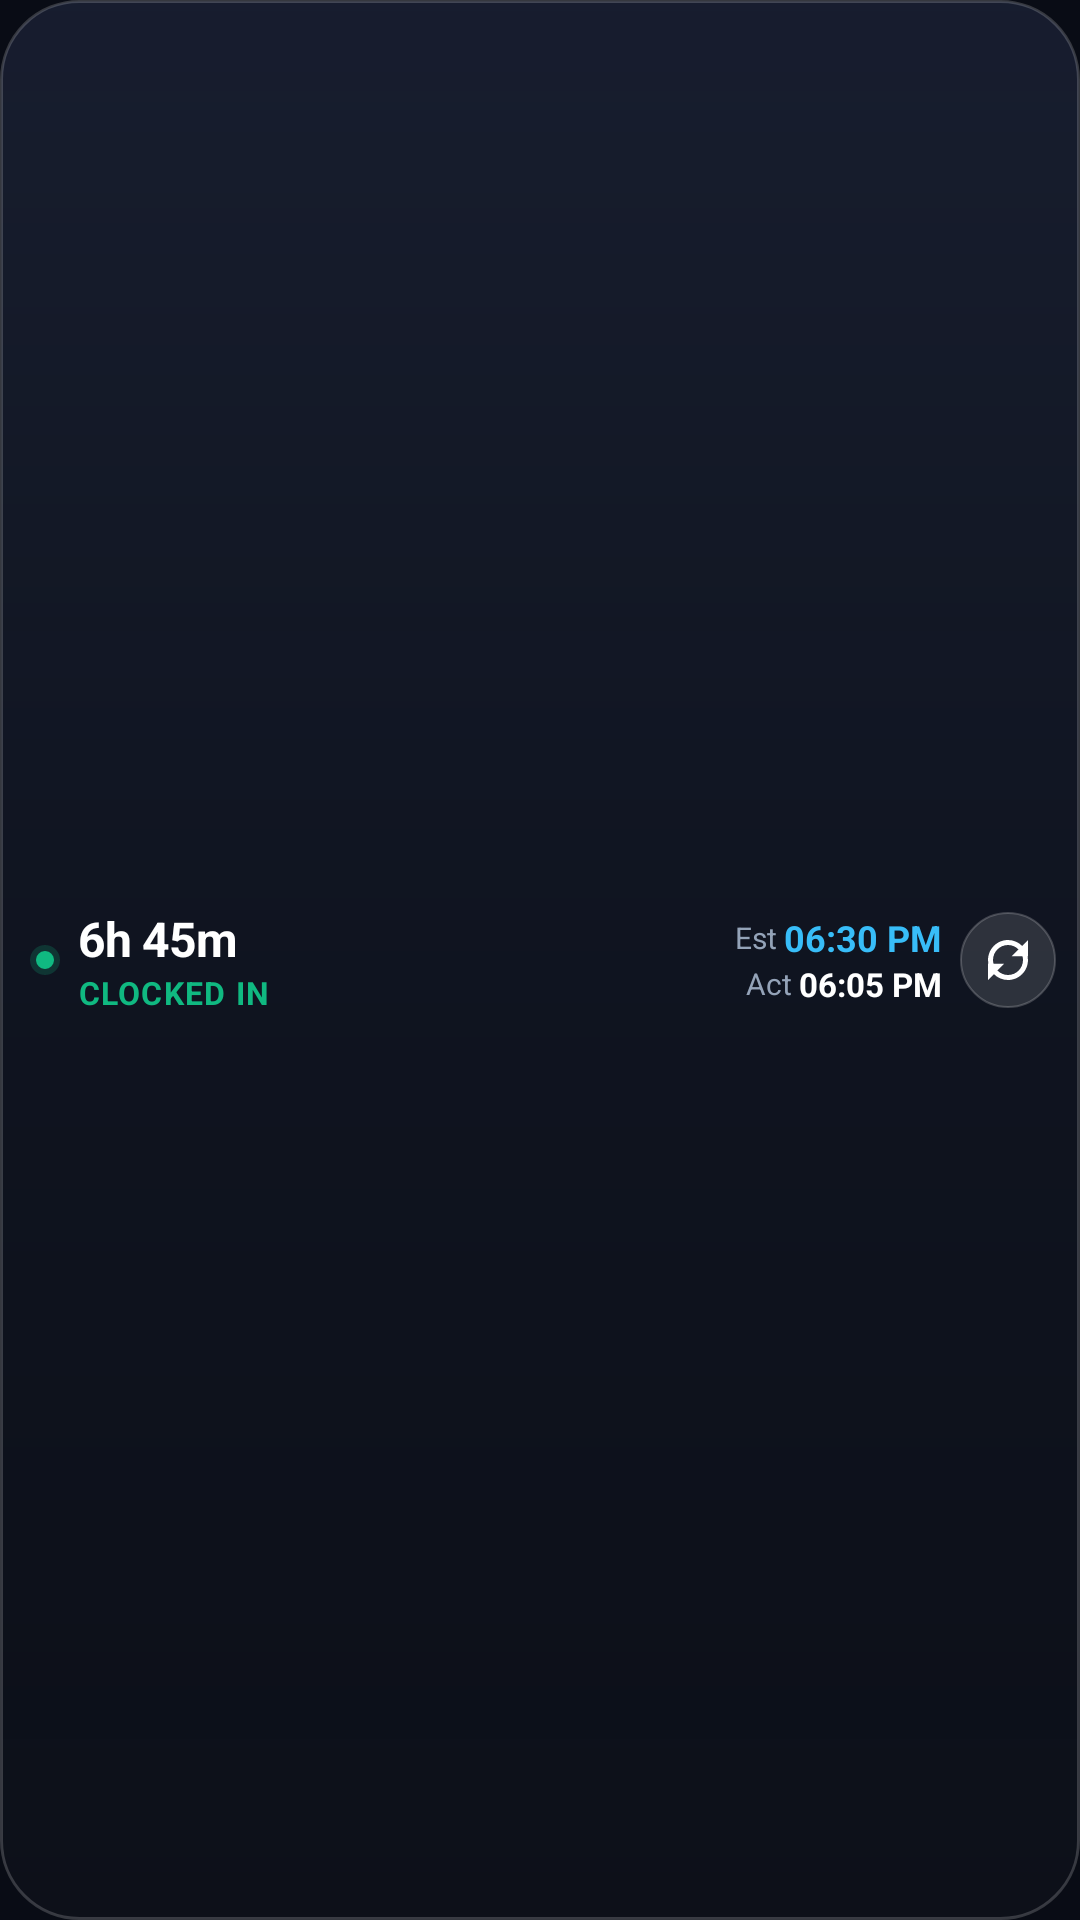

Icon bounding boxes for this 1080*1920 phone screenshot, format detection(x1, y1, x2, y2):
Live Status Beacon: detection(30, 945, 60, 975)
Refresh attendance stats: detection(960, 912, 1056, 1008)
